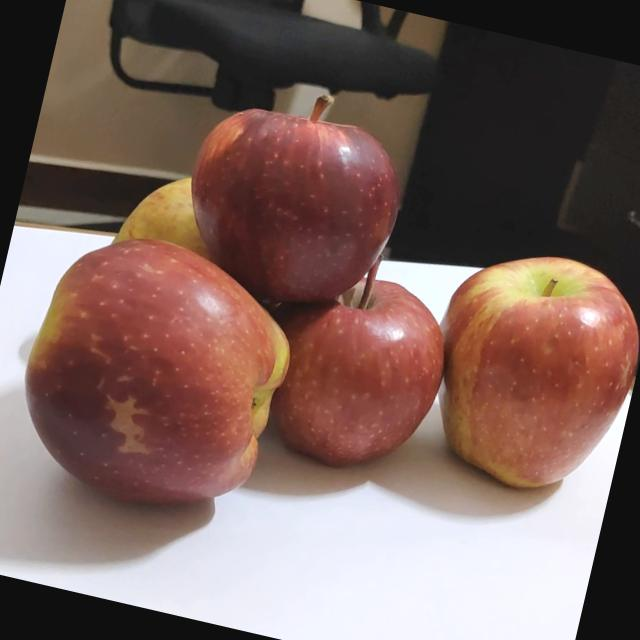apple: (4, 214, 319, 536), (170, 63, 434, 324), (411, 233, 640, 509), (246, 232, 471, 484), (77, 150, 302, 344)
